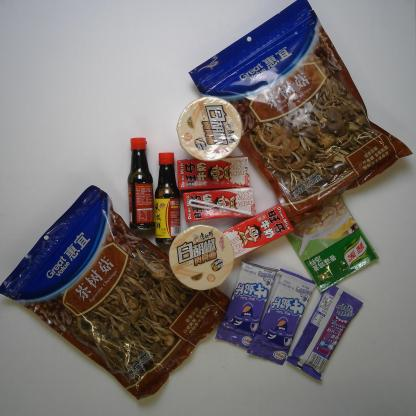Candy: (284, 283, 368, 385), (244, 268, 318, 367), (215, 255, 278, 354)
Dried Food: (0, 183, 243, 404), (190, 2, 416, 231)
Instant Noodles: (174, 94, 246, 164), (165, 223, 236, 292)
Milk: (221, 204, 297, 260), (176, 154, 250, 192), (182, 186, 256, 223)
Seasoner: (286, 193, 381, 294), (150, 151, 183, 246), (126, 135, 155, 232)
